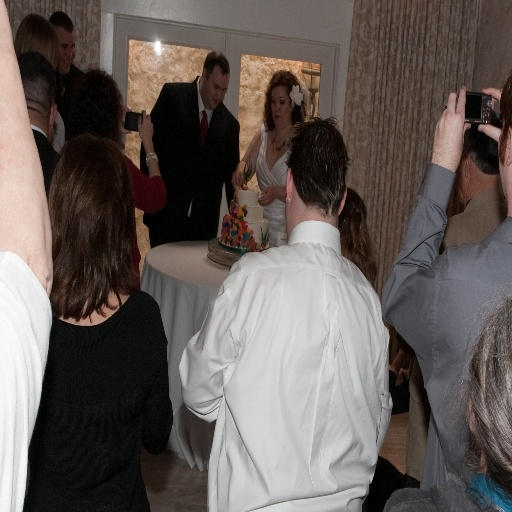hand: (437, 88, 483, 168), (476, 87, 502, 144), (136, 107, 153, 144), (258, 183, 277, 208), (116, 103, 131, 134), (230, 168, 246, 190)
